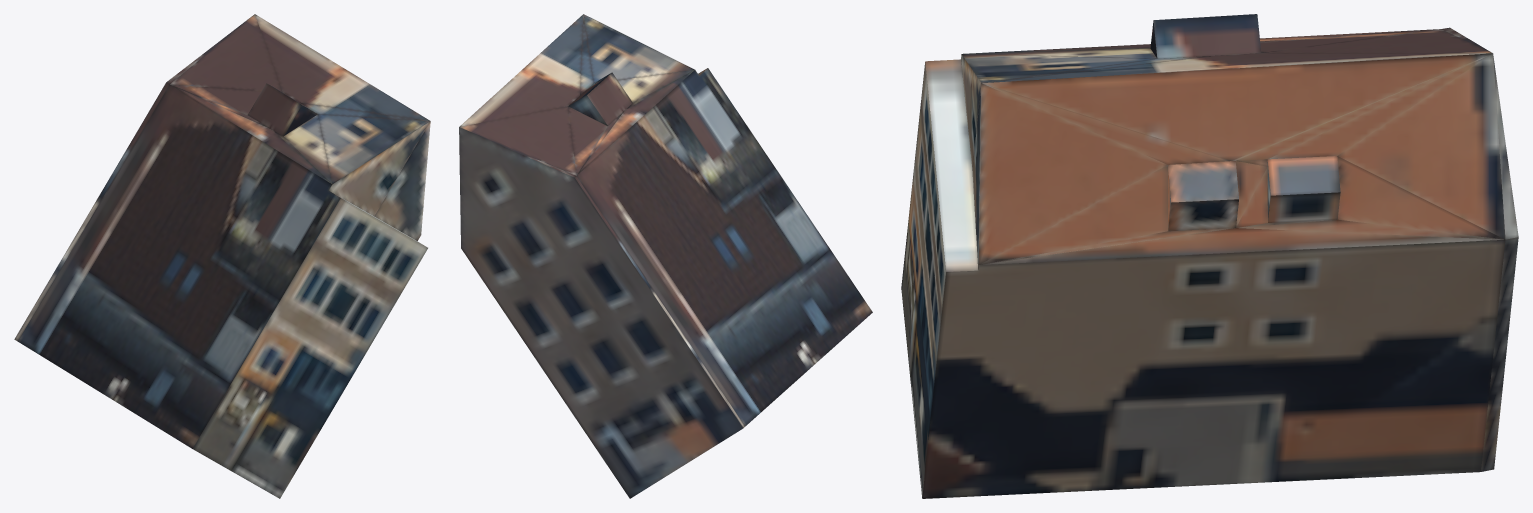
The picture shows the model from 3 angles, left to right: view 1: azimuth 30°, elevation 25°; view 2: azimuth 150°, elevation 25°; view 3: azimuth 270°, elevation 25°; orthographic projection. The views are drawn at different scales.
Parts seen in each view (by area): view 1: BAG_0599100000603392 (×5); view 2: BAG_0599100000603392 (×4); view 3: BAG_0599100000603392 (×5).
Boxes of the visible parts, <box> form: BAG_0599100000603392 (×5): <box>14,14,430,498</box>; BAG_0599100000603392 (×4): <box>459,14,872,498</box>; BAG_0599100000603392 (×5): <box>901,14,1518,498</box>.
Size of the model in its own units: 14.93 by 16.25 by 16.12.
1 material, 1 textured.
